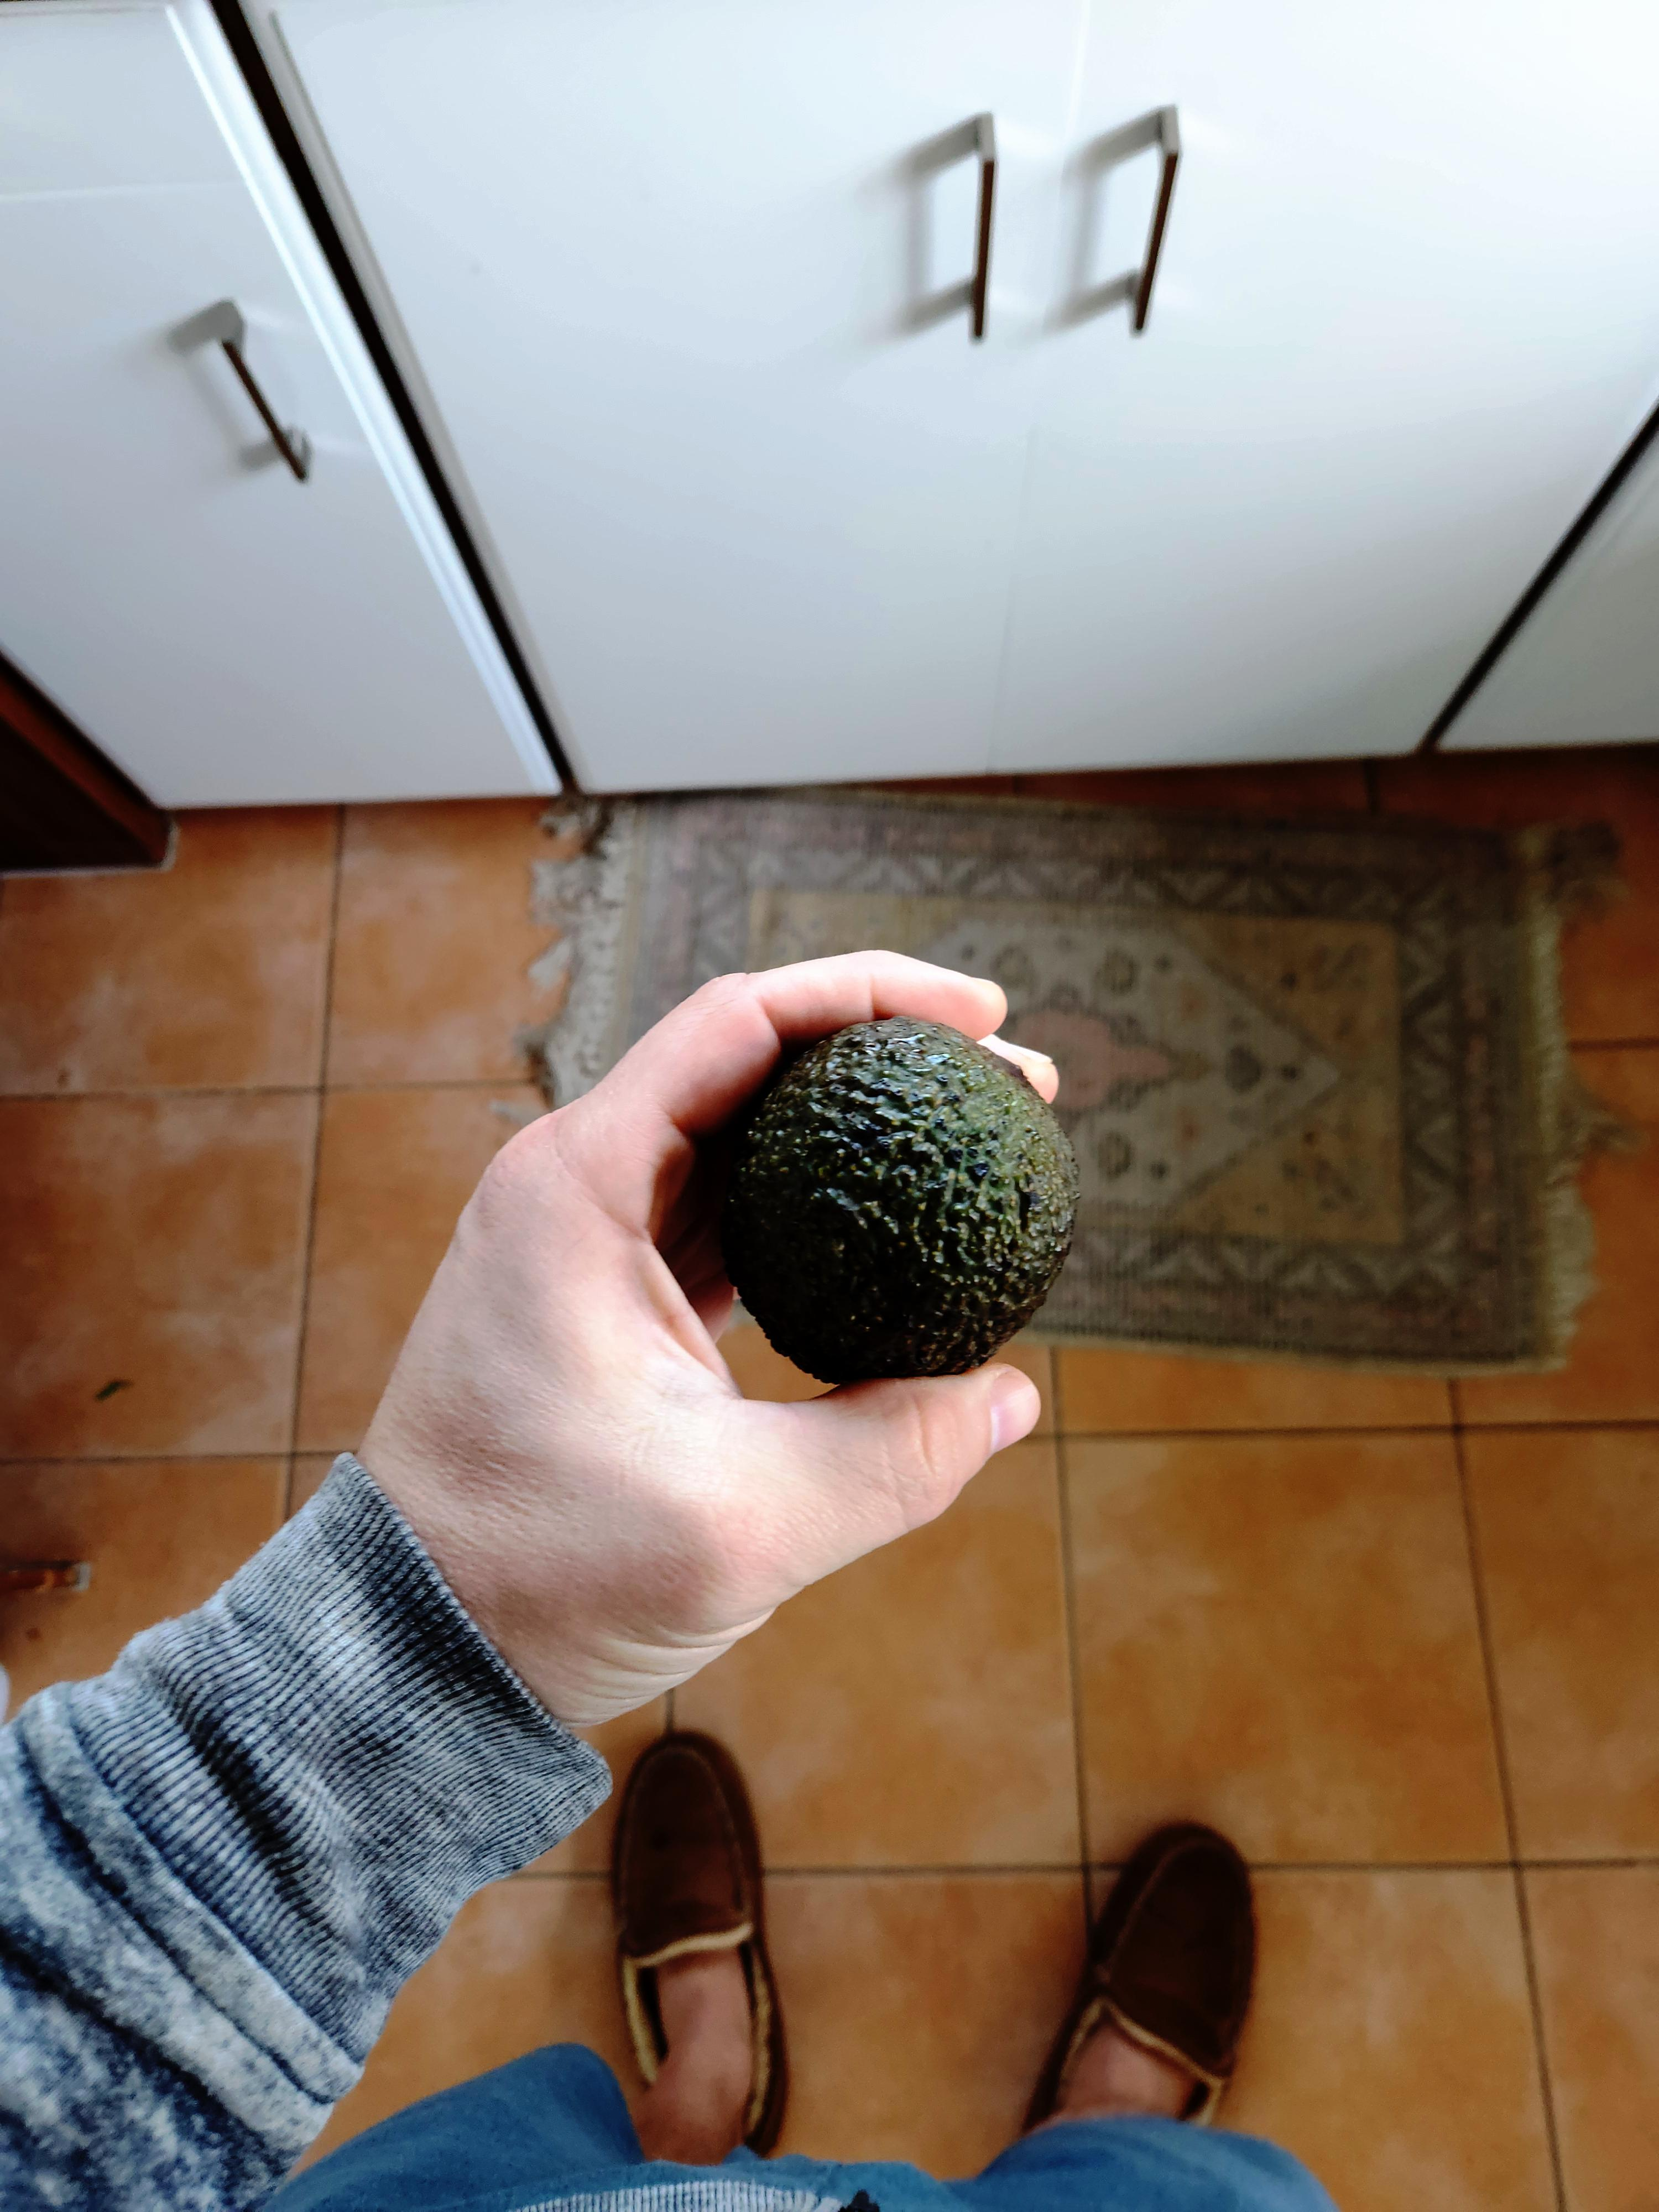avocado: (535, 1334, 819, 1834)
